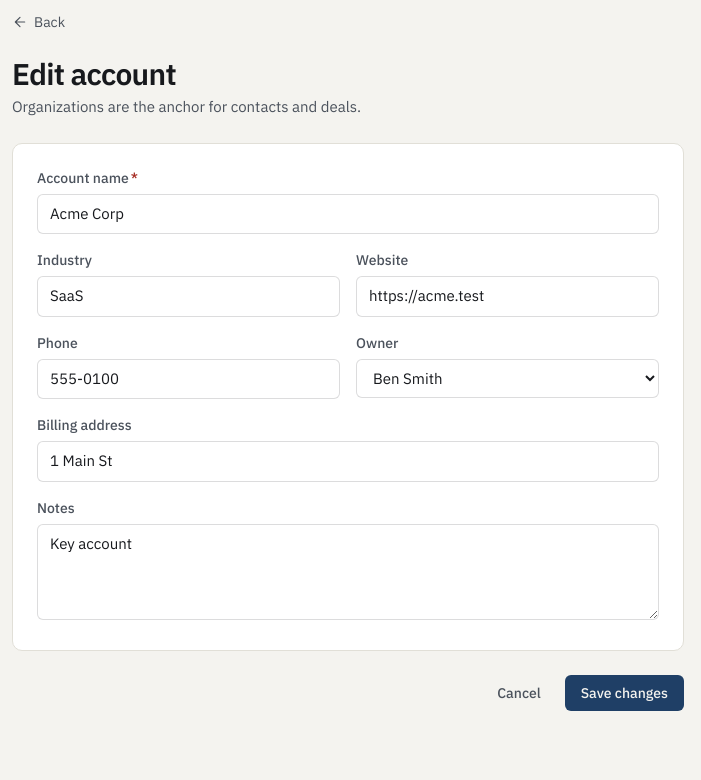
Test case: AccountFormPage › edit mode › surfaces update conflicts without navigating away
Expected: the heading "Edit account" is shown, 12,56 -> 176,92
Click the button "Save changes" at [624, 692], box 565,674 -> 684,710
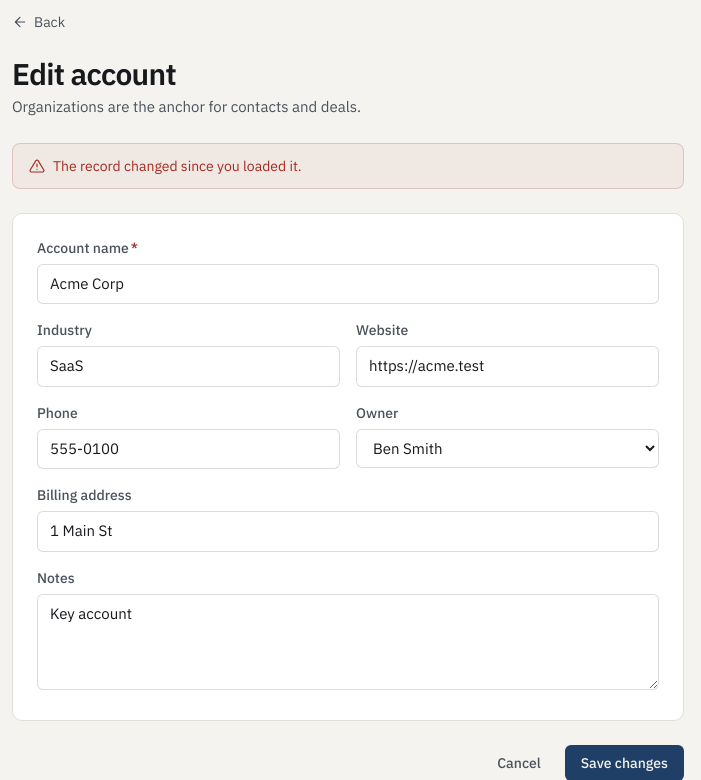
Now the text "The record changed since you loaded it." is shown, box 53,156 -> 302,176
